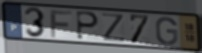3: (24, 6, 47, 39)
7: (129, 14, 151, 45)
F: (49, 9, 74, 39)
G: (155, 16, 180, 47)
P: (75, 10, 100, 42)
Z: (101, 12, 128, 44)
